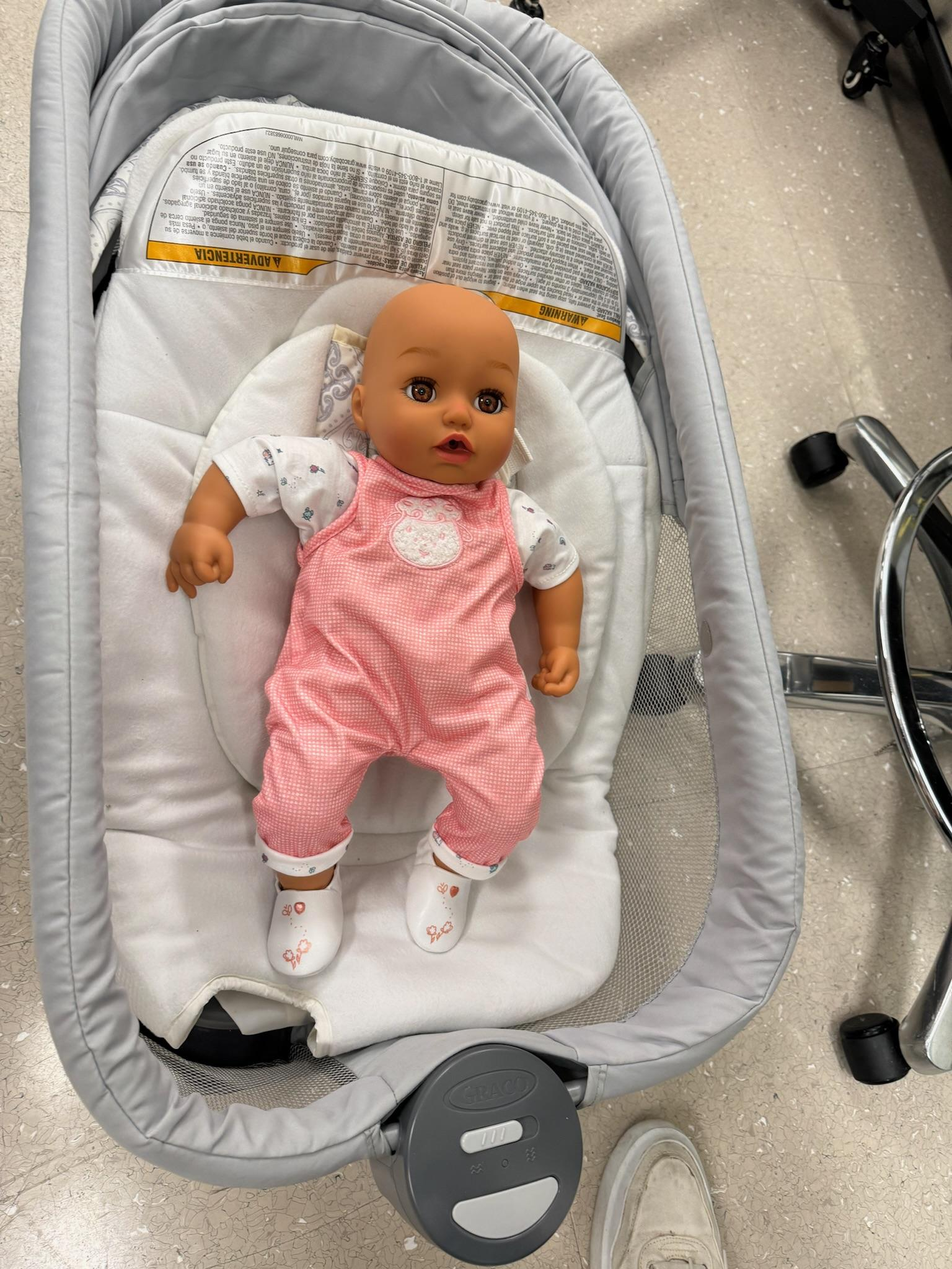baby: (161, 275, 604, 972)
